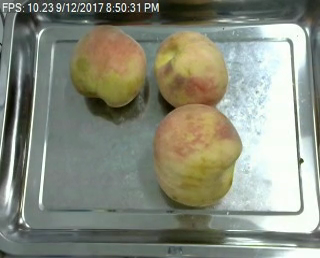Peach: (151, 103, 241, 206), (69, 24, 146, 107), (154, 30, 227, 109)
